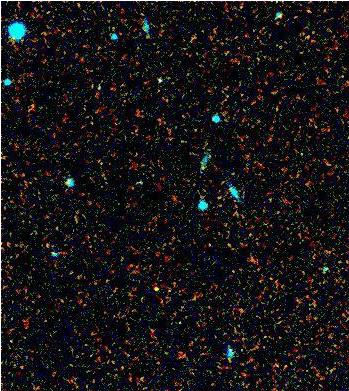star: (139, 273, 169, 303)
